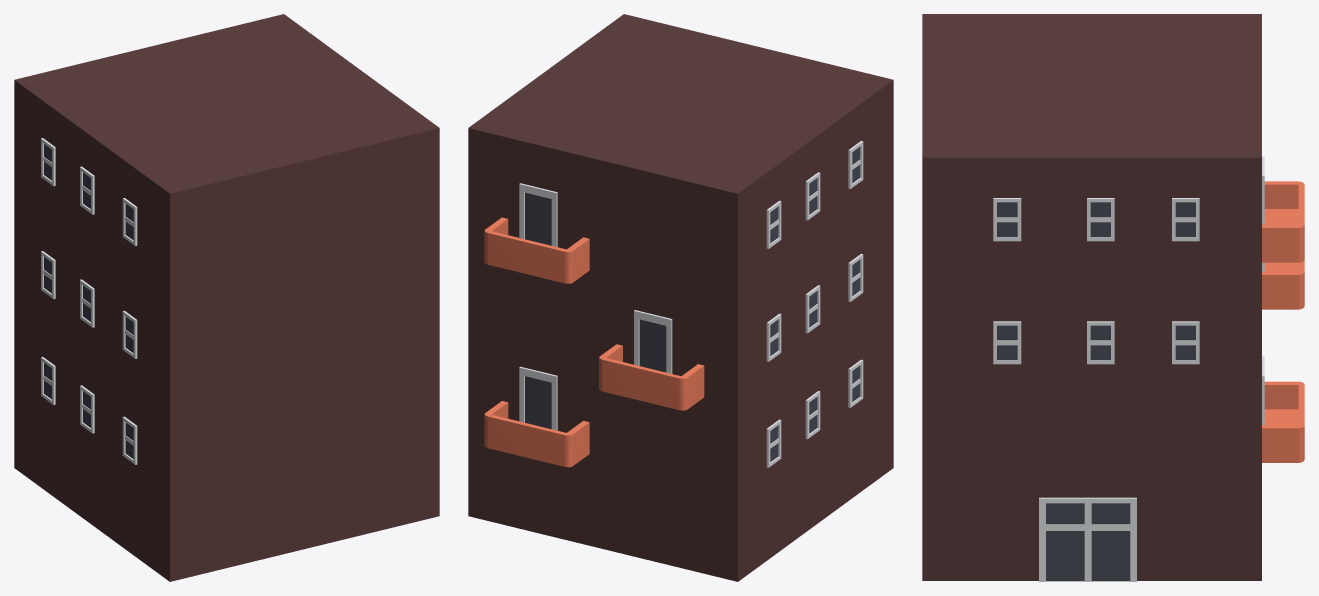
The model's file is building 1.fbx.
The picture shows the model from 3 angles, left to right: view 1: azimuth 30°, elevation 25°; view 2: azimuth 150°, elevation 25°; view 3: azimuth 270°, elevation 25°; orthographic projection. The views are drawn at different scales.
Visible parts, largest first — view 1: block_53, window_64, window_70, window_63, window_71, window_61, window_62, window_68, window_66, window_72; view 2: block_53, balcony_54, balcony_60, balcony_58, door_low_59, door_low_56, door_low_57, window_68, window_70, window_61, window_62, window_63 (+4 smaller); view 3: block_53, door_wide_84, balcony_54, balcony_60, balcony_58, window_78, window_79, window_76, window_77, window_80, window_81.
Boxes of the visible parts, x1,y1,x2,y2 form: block_53: (14,14,439,581); window_64: (122,310,137,358); window_70: (122,416,137,464); window_63: (122,198,137,245); window_71: (80,385,94,433); window_61: (41,138,55,186); window_62: (80,166,94,214); window_68: (80,279,94,327); window_66: (41,251,55,299); window_72: (41,357,55,404); block_53: (468,14,893,581); balcony_54: (484,217,589,283); balcony_60: (484,401,589,467); balcony_58: (599,344,704,410); door_low_59: (519,366,557,430); door_low_56: (519,183,557,246); door_low_57: (634,310,672,373); window_68: (805,285,820,333); window_70: (848,359,863,407); window_61: (766,200,781,248); window_62: (805,172,820,220); window_63: (848,141,863,189); block_53: (922,14,1261,580); door_wide_84: (1039,497,1136,581); balcony_54: (1262,181,1304,262); balcony_60: (1262,381,1304,462); balcony_58: (1262,260,1304,309); window_78: (993,321,1021,364); window_79: (993,198,1021,241); window_76: (1172,321,1199,364); window_77: (1087,321,1114,364); window_80: (1087,198,1114,241); window_81: (1172,198,1199,241).
Size of the model in its own units: 40.6 by 55 by 45.
